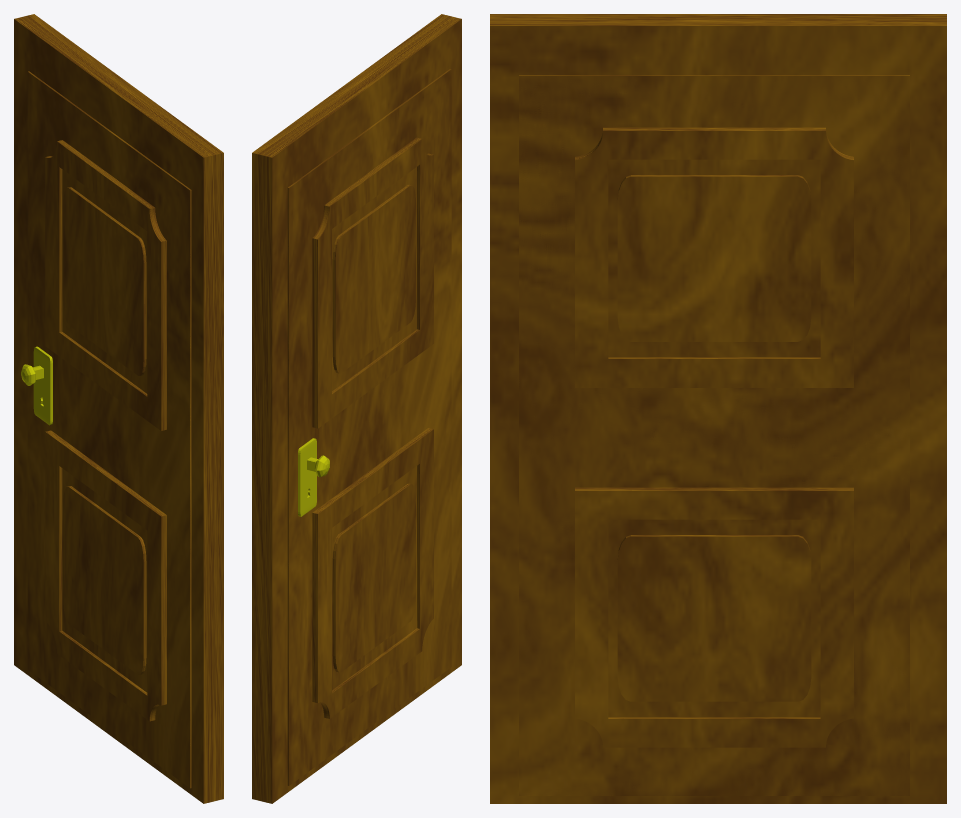
The model's file is door.fbx.
3 renders of one model, left to right at view 1: azimuth 30°, elevation 25°; view 2: azimuth 150°, elevation 25°; view 3: azimuth 270°, elevation 25°, orthographic. The views are drawn at different scales.
Parts seen in each view (by area): view 1: Cube.004, Cube.018, Cube.005; view 2: Cube.004, Cube.018, Cube.005; view 3: Cube.004, Cube.018.
Part boxes in pixels (bbox=[...]): Cube.004: bbox=[27, 71, 191, 788]; Cube.018: bbox=[14, 14, 223, 803]; Cube.005: bbox=[21, 346, 52, 425]; Cube.004: bbox=[287, 69, 451, 785]; Cube.018: bbox=[252, 14, 461, 803]; Cube.005: bbox=[298, 438, 329, 516]; Cube.004: bbox=[519, 75, 909, 795]; Cube.018: bbox=[490, 14, 946, 803].
Size of the model in its own units: 40.76 by 502 by 267.
2 materials, 2 textured.
